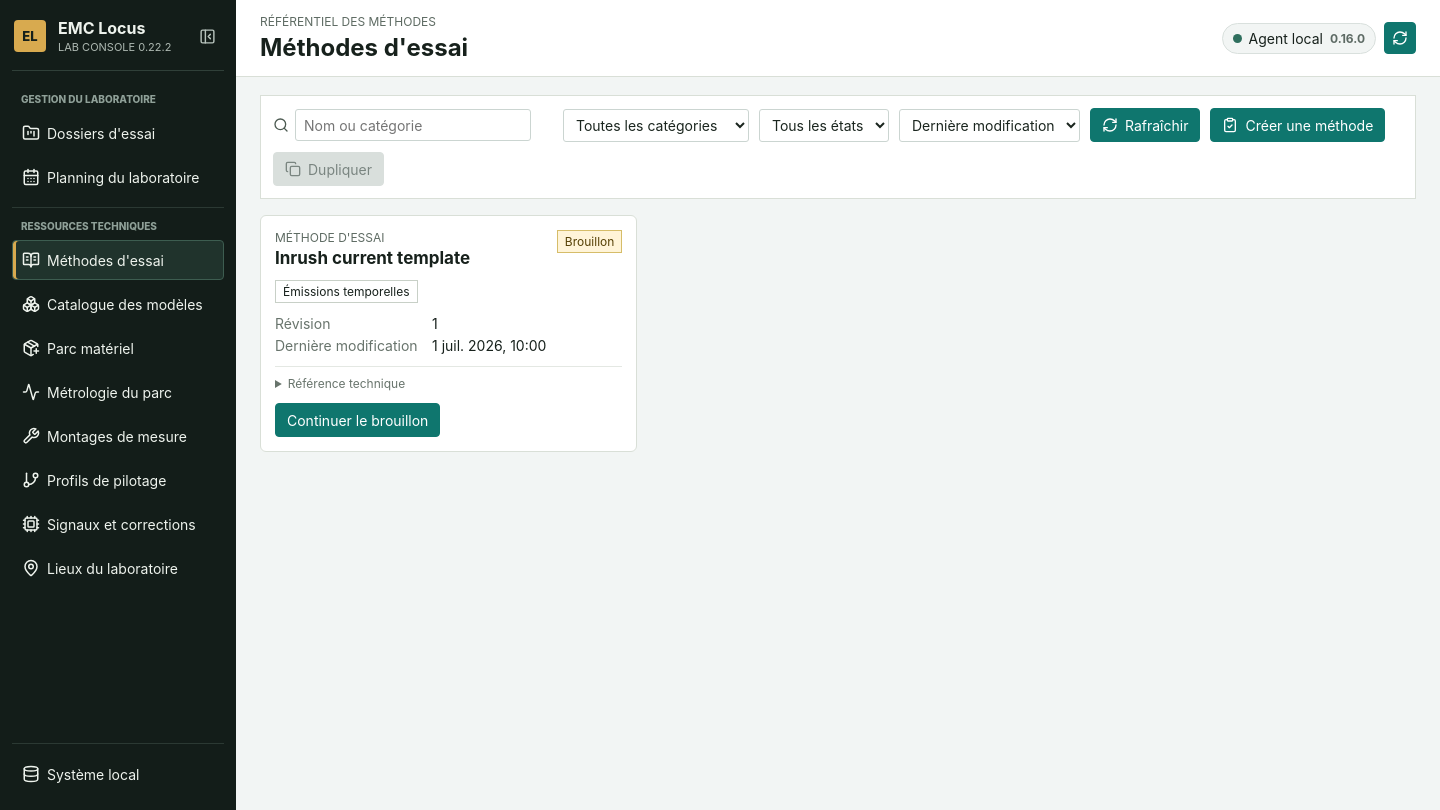
Test: LAB CONSOLE › keeps the laboratory week readable when location choices fail to load
Click the button "Planning du laboratoire": (118, 177) [12, 157, 224, 197]
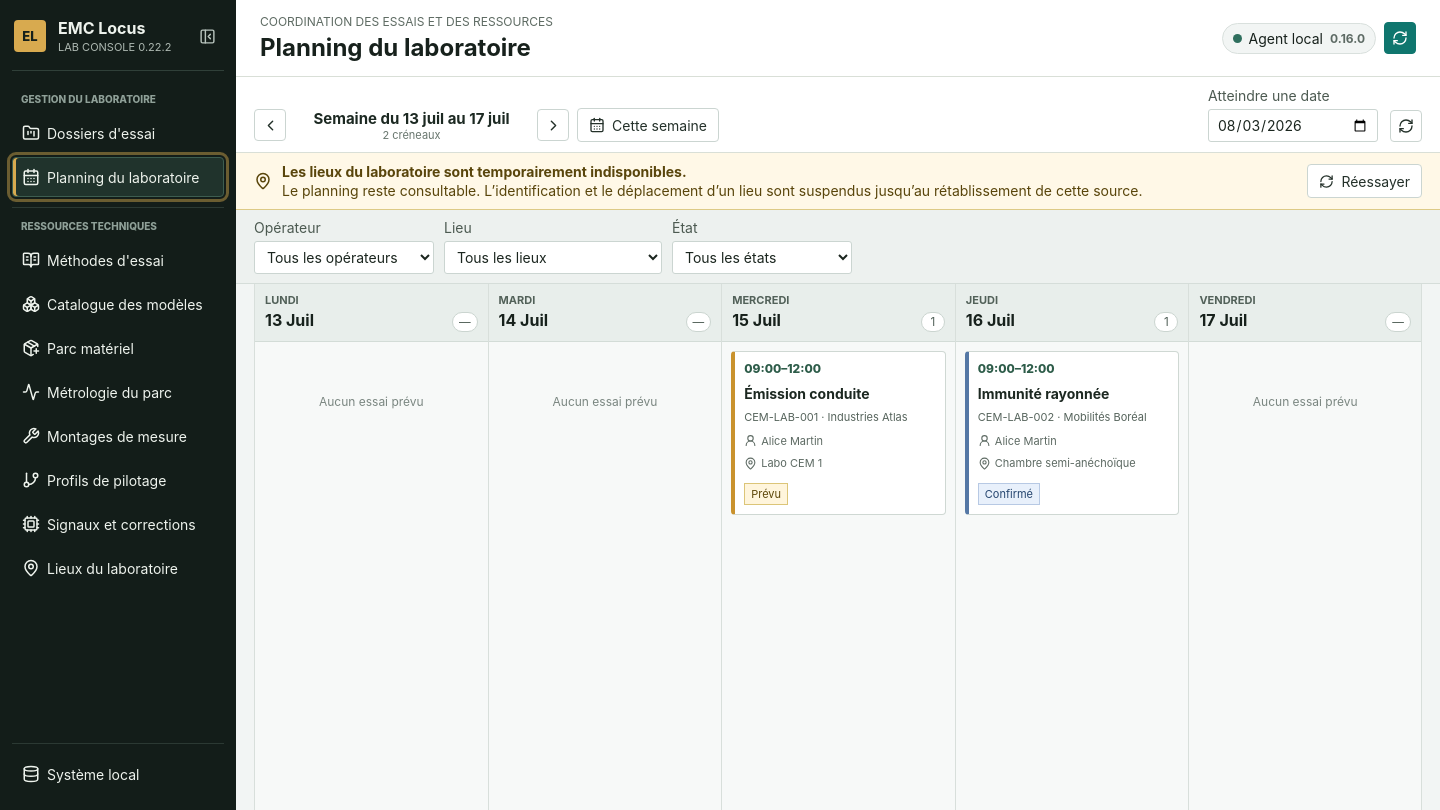
Expected: the text "CEM-LAB-001 · Industries Atlas" is shown, [744, 411, 936, 425]
Expected: the text "CEM-LAB-002 · Mobilités Boréal" is shown, [978, 411, 1169, 425]
Expected: the message shows "Les lieux du laboratoire sont temporairement indisponibles", [282, 163, 687, 180]
Click the button with aria-label "Ouvrir Émission conduite, dossier CEM-LAB-001": (838, 433) [731, 351, 946, 515]
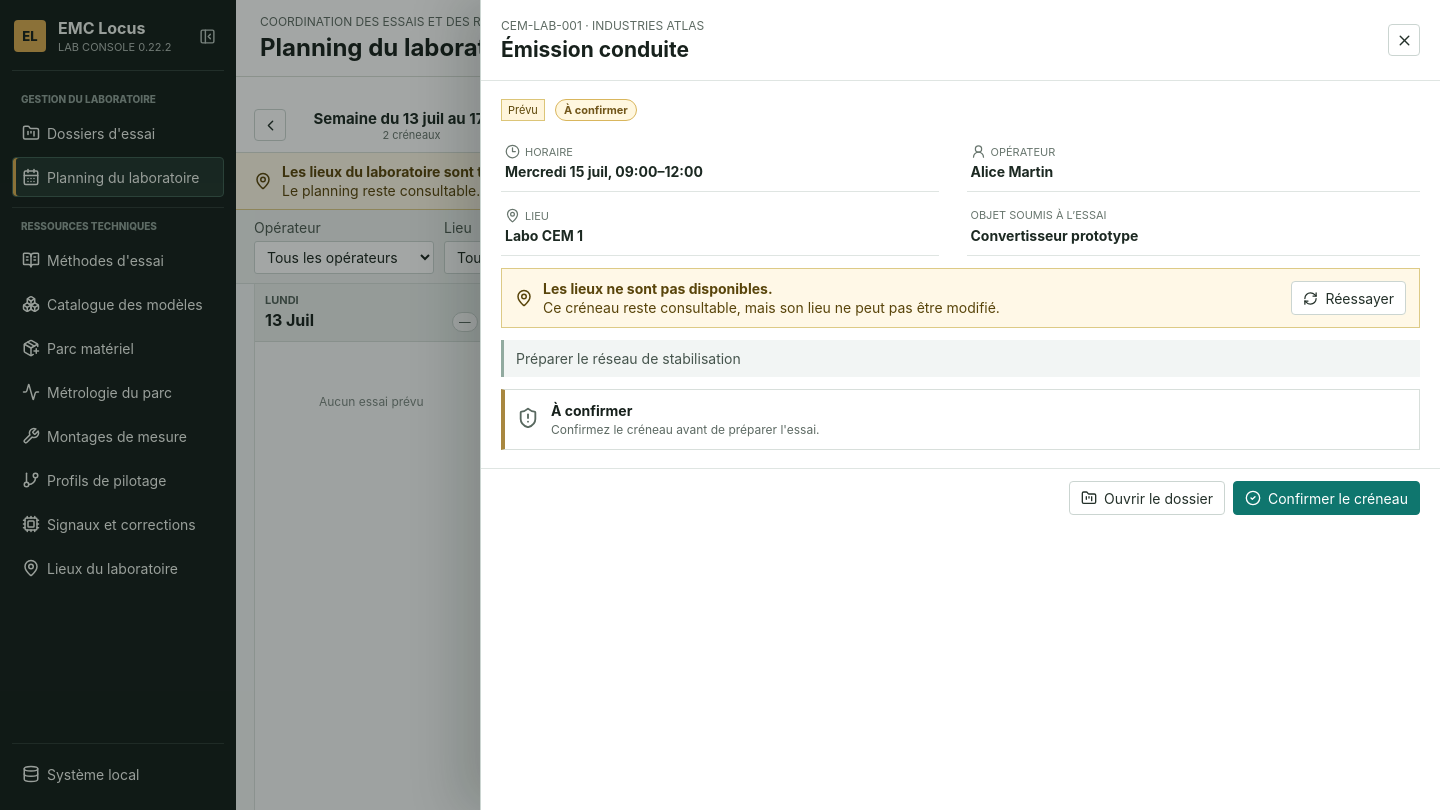
Expected: the text "Convertisseur prototype" is shown, [970, 226, 1138, 244]
